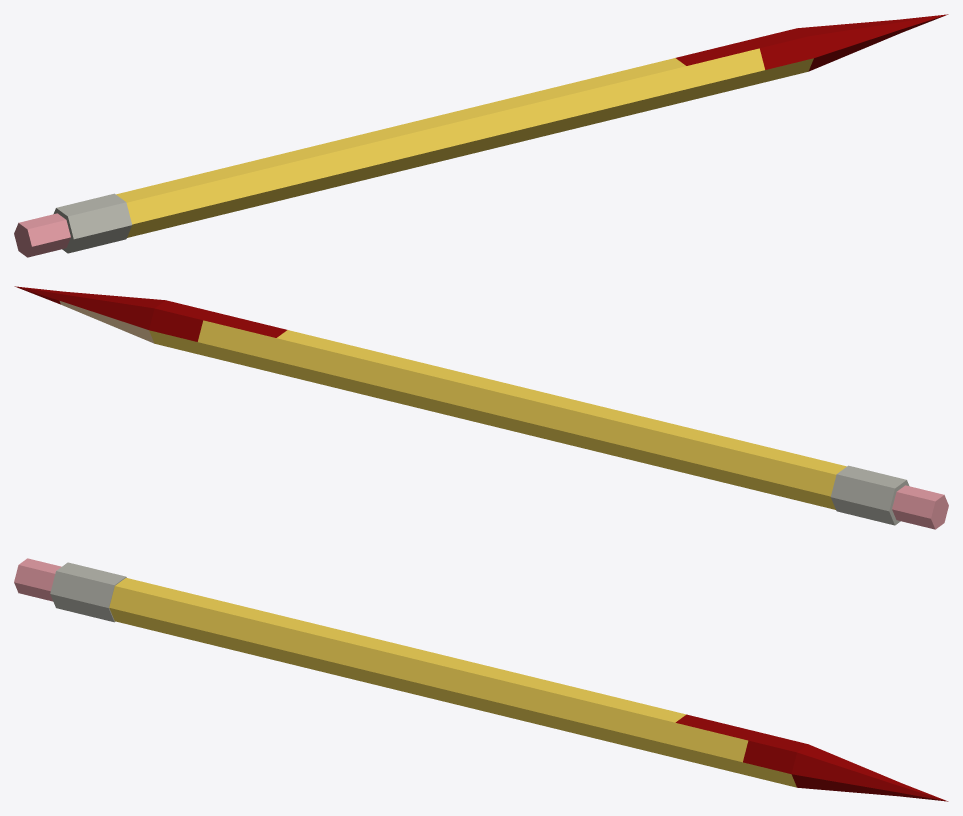
The model's file is pencil.glb.
3 views of the same model, one above another, from view 1: azimuth 30°, elevation 25°; view 2: azimuth 150°, elevation 25°; view 3: azimuth 330°, elevation 25° (orthographic).
Visible parts, largest first — view 1: Pencil; view 2: Pencil; view 3: Pencil.
Boxes of the visible parts, x1,y1,x2,y2 form: Pencil: (14, 14, 948, 257); Pencil: (14, 286, 948, 529); Pencil: (14, 558, 948, 801).
Size of the model in its own units: 0.19 by 0.00727 by 0.0084.
